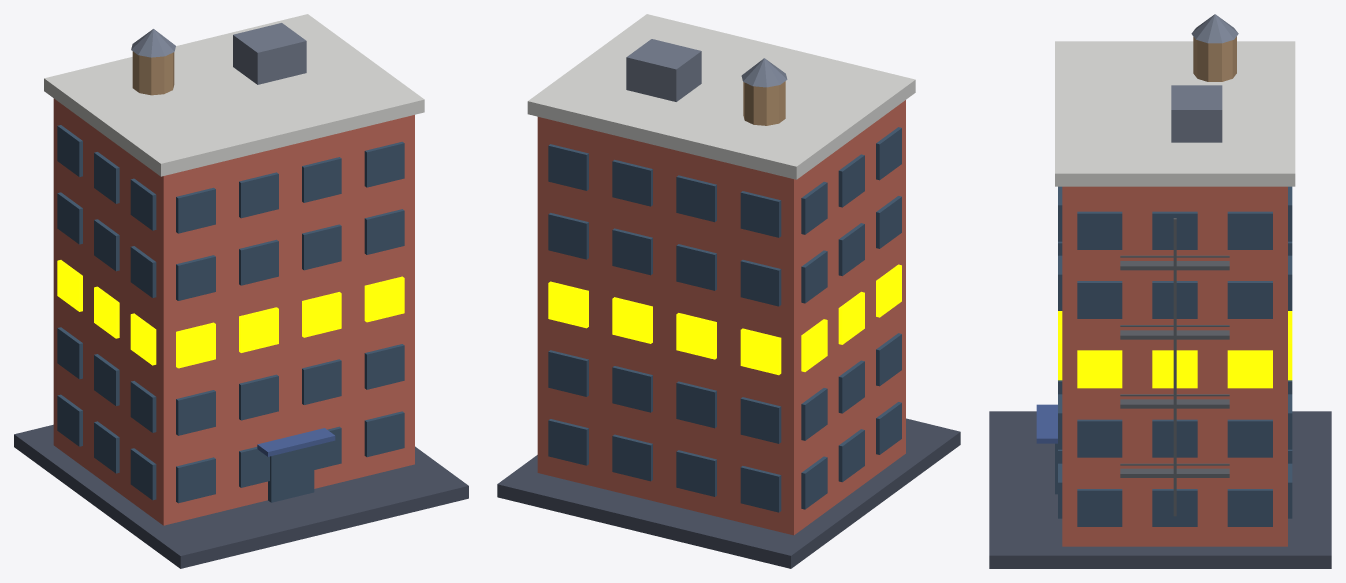
Rendered from walkup_brick.glb.
The picture shows the model from 3 angles, left to right: view 1: azimuth 30°, elevation 25°; view 2: azimuth 150°, elevation 25°; view 3: azimuth 270°, elevation 25°; orthographic projection. The views are drawn at different scales.
Visible parts, largest first — view 1: walkup_brick_body; view 2: walkup_brick_body; view 3: walkup_brick_body.
Part boxes in pixels (x1,y1,x2,y2): walkup_brick_body: [14, 14, 468, 568]; walkup_brick_body: [497, 14, 960, 568]; walkup_brick_body: [989, 14, 1331, 568].
Bounding box in the file's own units: 0.94 × 1.37 × 0.94.
